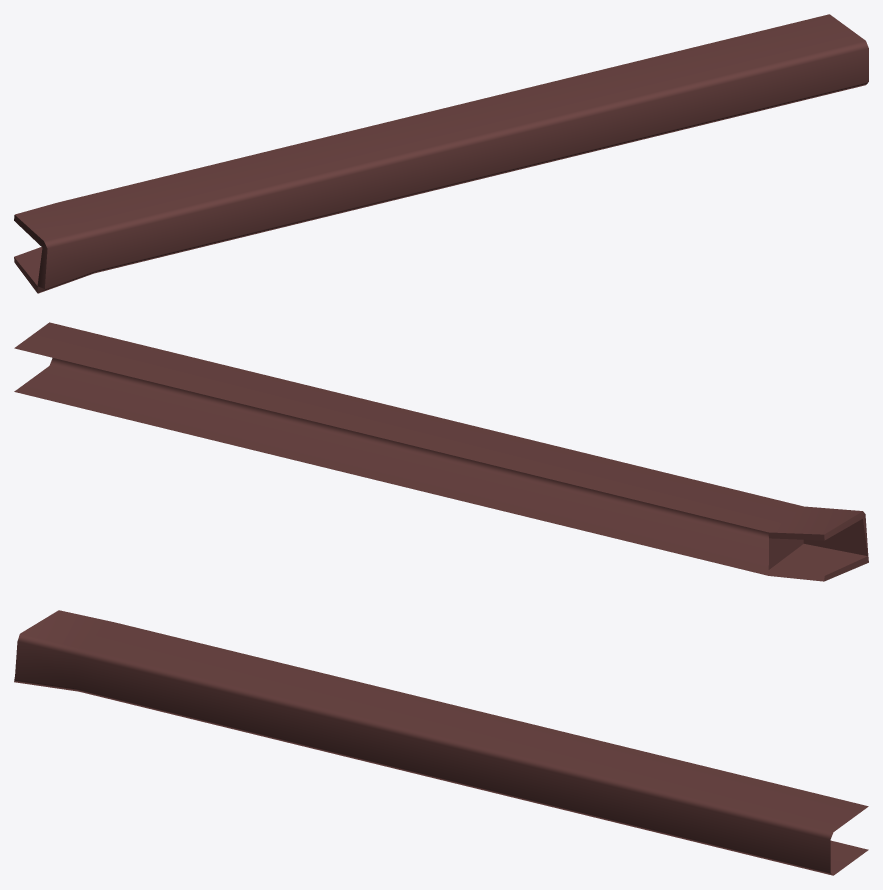
Rendered from DBK_Trim_Extra_End_Mirror.fbx.
3 views of the same model, one above another, from view 1: azimuth 30°, elevation 25°; view 2: azimuth 150°, elevation 25°; view 3: azimuth 330°, elevation 25° (orthographic). The views are drawn at different scales.
Visible parts, largest first — view 1: DBK_Trim_Extra_End_Mirror; view 2: DBK_Trim_Extra_End_Mirror; view 3: DBK_Trim_Extra_End_Mirror.
Boxes of the visible parts, bbox=[...] form: DBK_Trim_Extra_End_Mirror: bbox=[14, 14, 868, 293]; DBK_Trim_Extra_End_Mirror: bbox=[14, 322, 868, 581]; DBK_Trim_Extra_End_Mirror: bbox=[14, 610, 868, 875].
Size of the model in its own units: 143 by 8.38 by 13.19.
